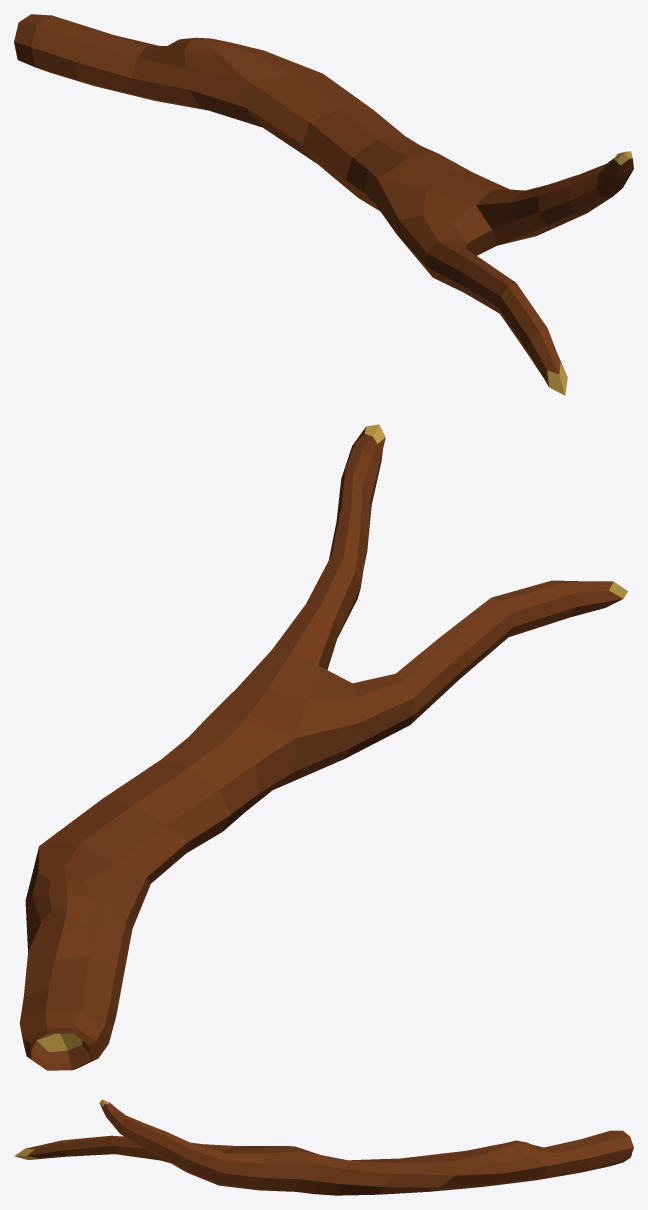
File: Log_2.fbx
3 renders of one model, top to bottom at view 1: azimuth 30°, elevation 25°; view 2: azimuth 150°, elevation 25°; view 3: azimuth 270°, elevation 25°, orthographic. The views are drawn at different scales.
Parts seen in each view (by area): view 1: Log_2; view 2: Log_2; view 3: Log_2.
Part boxes in pixels (box(x1,y1,x2,y2)): Log_2: box(14, 14, 633, 395); Log_2: box(19, 424, 627, 1070); Log_2: box(14, 1099, 633, 1195).
Size of the model in its own units: 89.1 by 75.51 by 384.
